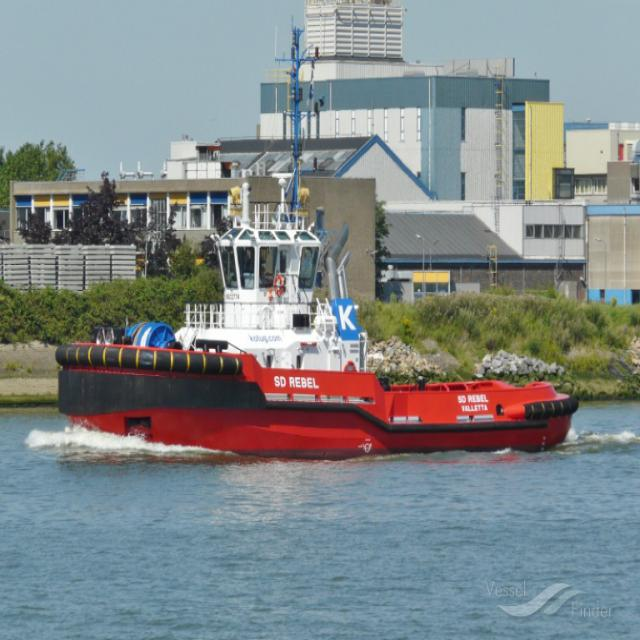tugboat: (54, 223, 581, 455)
